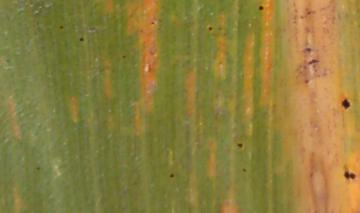tarspot: (341, 97, 350, 112), (342, 169, 350, 182), (307, 58, 320, 66), (302, 46, 313, 54), (236, 142, 244, 150), (33, 164, 42, 171), (206, 25, 214, 32), (349, 172, 356, 180), (3, 57, 11, 64), (257, 4, 264, 11), (303, 78, 310, 85), (168, 171, 174, 179), (78, 35, 84, 42), (240, 166, 246, 173), (120, 52, 126, 59), (57, 24, 63, 30), (149, 20, 155, 25), (306, 10, 311, 16), (299, 14, 304, 20)
